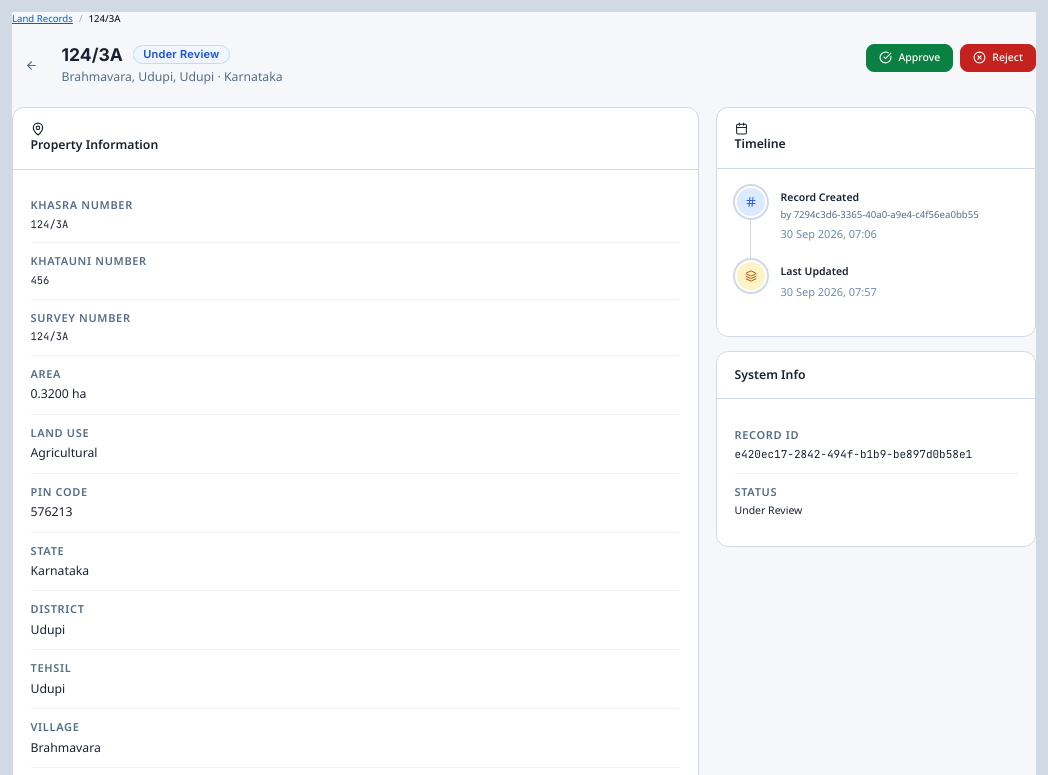
Test: LandRecordDetailPage › shows an inline error and does not claim success when verification fails
Click the button "Approve": point(910, 58) [866,44,953,72]
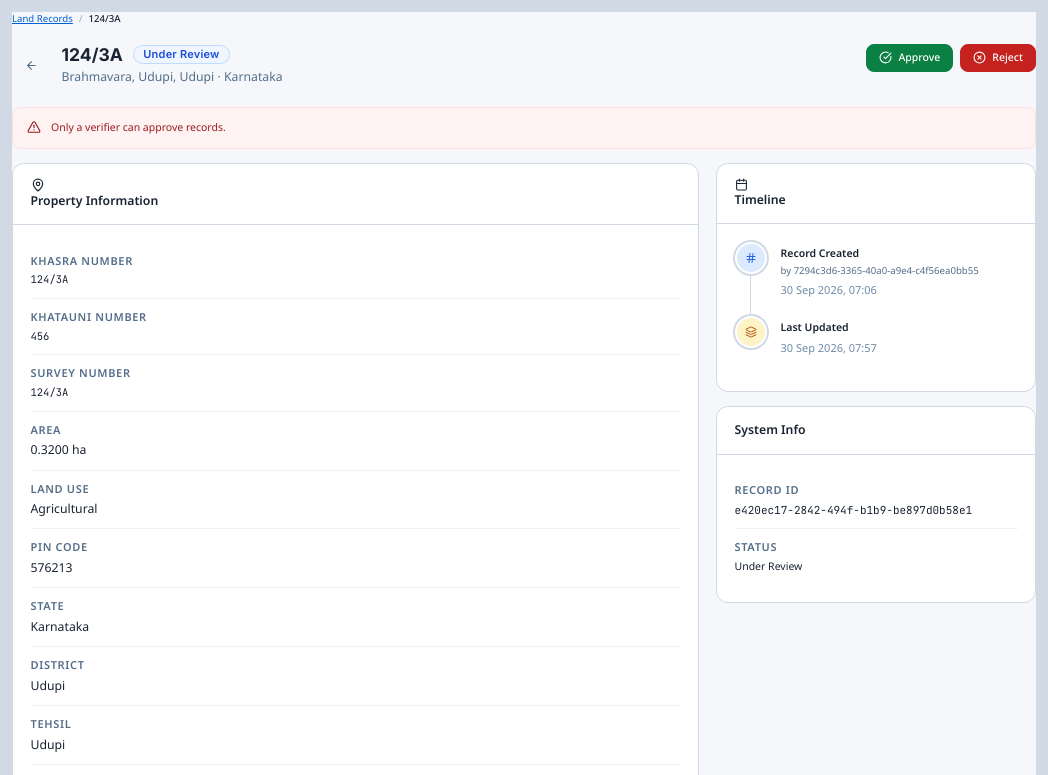
Expected: the text "Only a verifier can approve records." is shown, [51,120,226,136]
